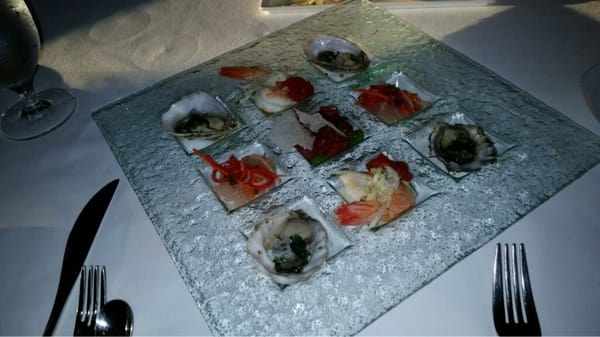sandwich: (42, 178, 120, 333)
